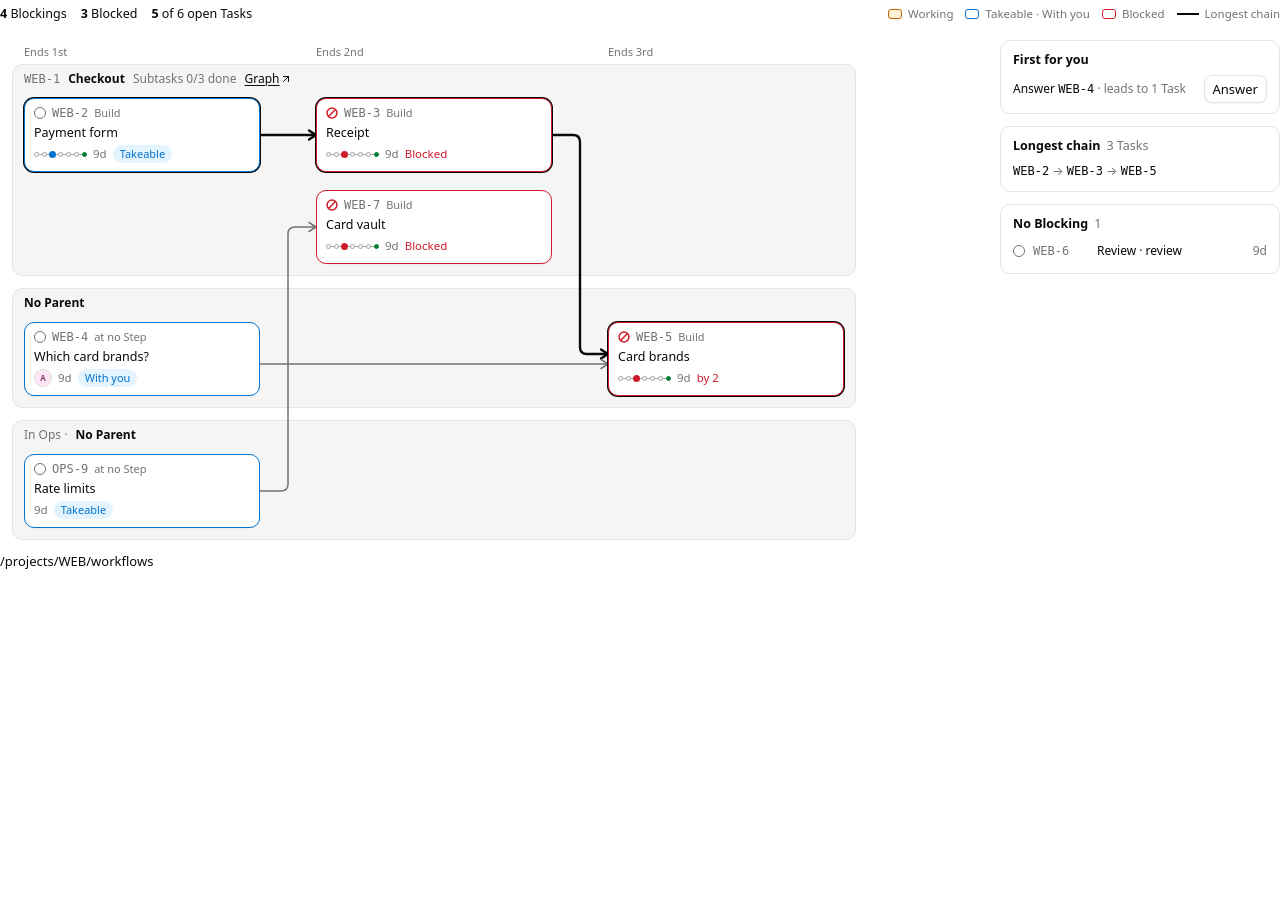
Test case: BlockingView › selects a node's chain, and hands Show on line its id and Open its peek
Click the button "WEB-5 Build Card brands 9d by 2": (726, 359) [608,322,844,396]
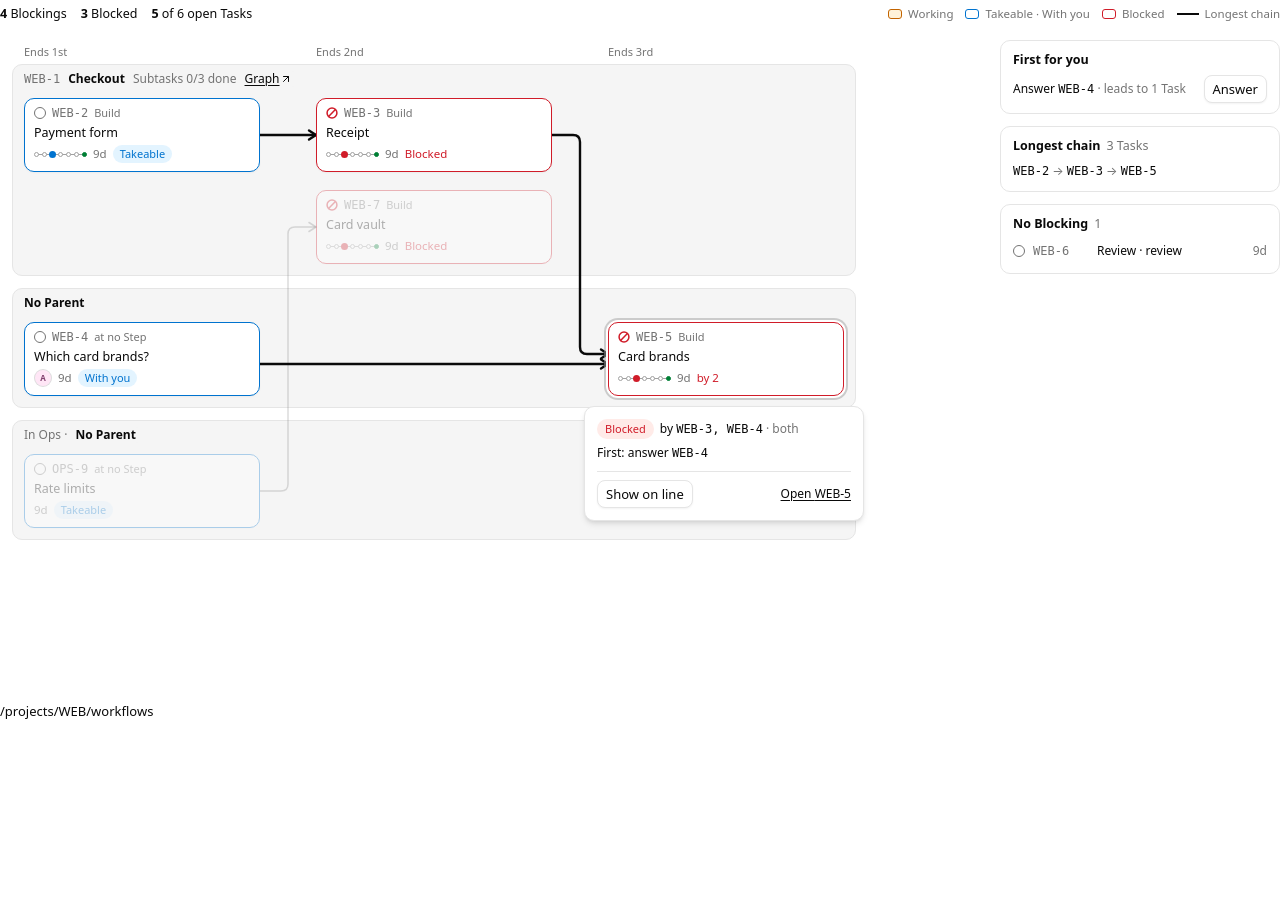
Result: the dialog named "WEB-5, its chain" shows "by WEB-3, WEB-4 · both" at [584,406,864,521]
Result: the dialog named "WEB-5, its chain" shows "First: answer WEB-4" at [584,406,864,521]
Click the button "Show on line": (645, 494) [597,480,693,508]
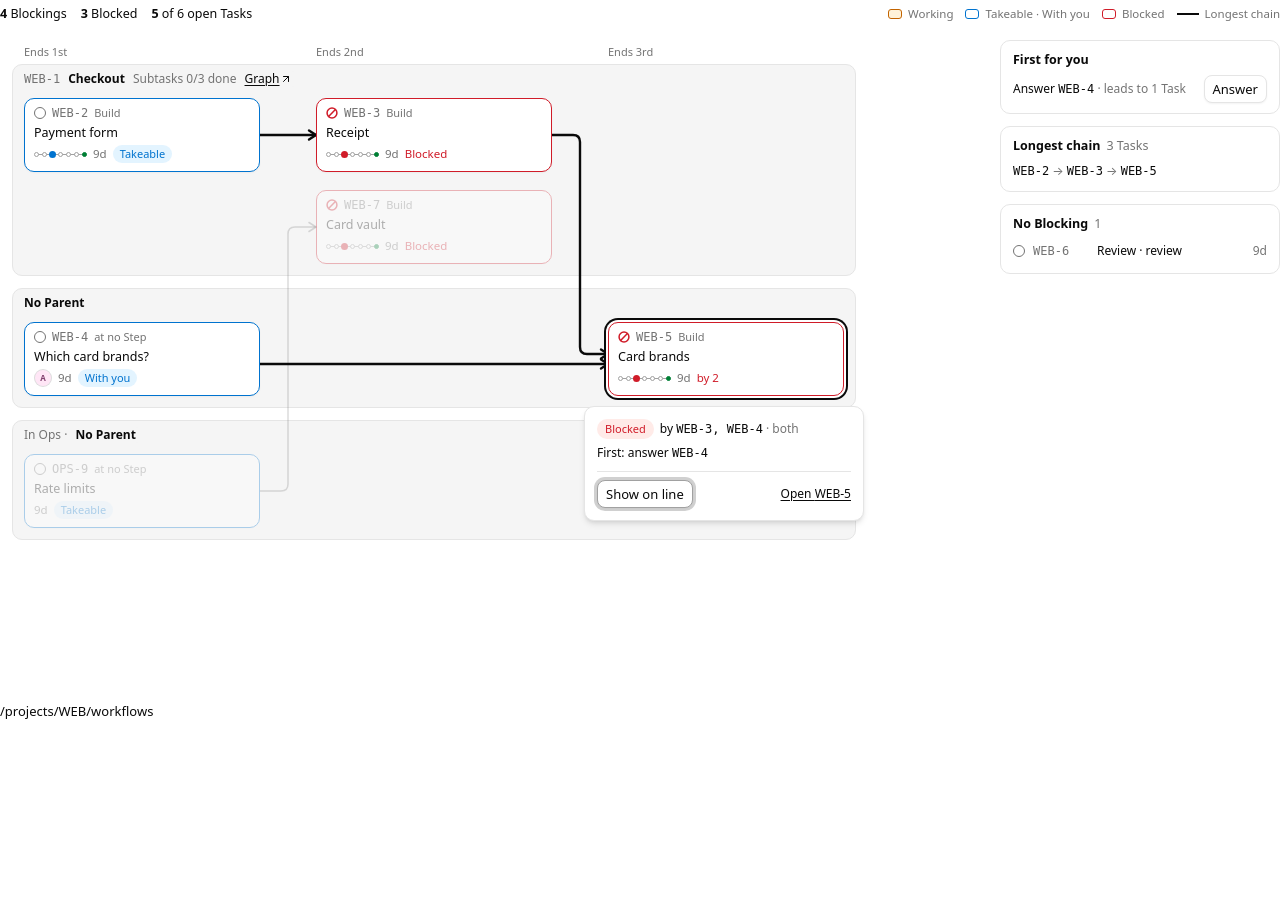
Click the button "Open WEB-5": (816, 494) [781,486,851,502]
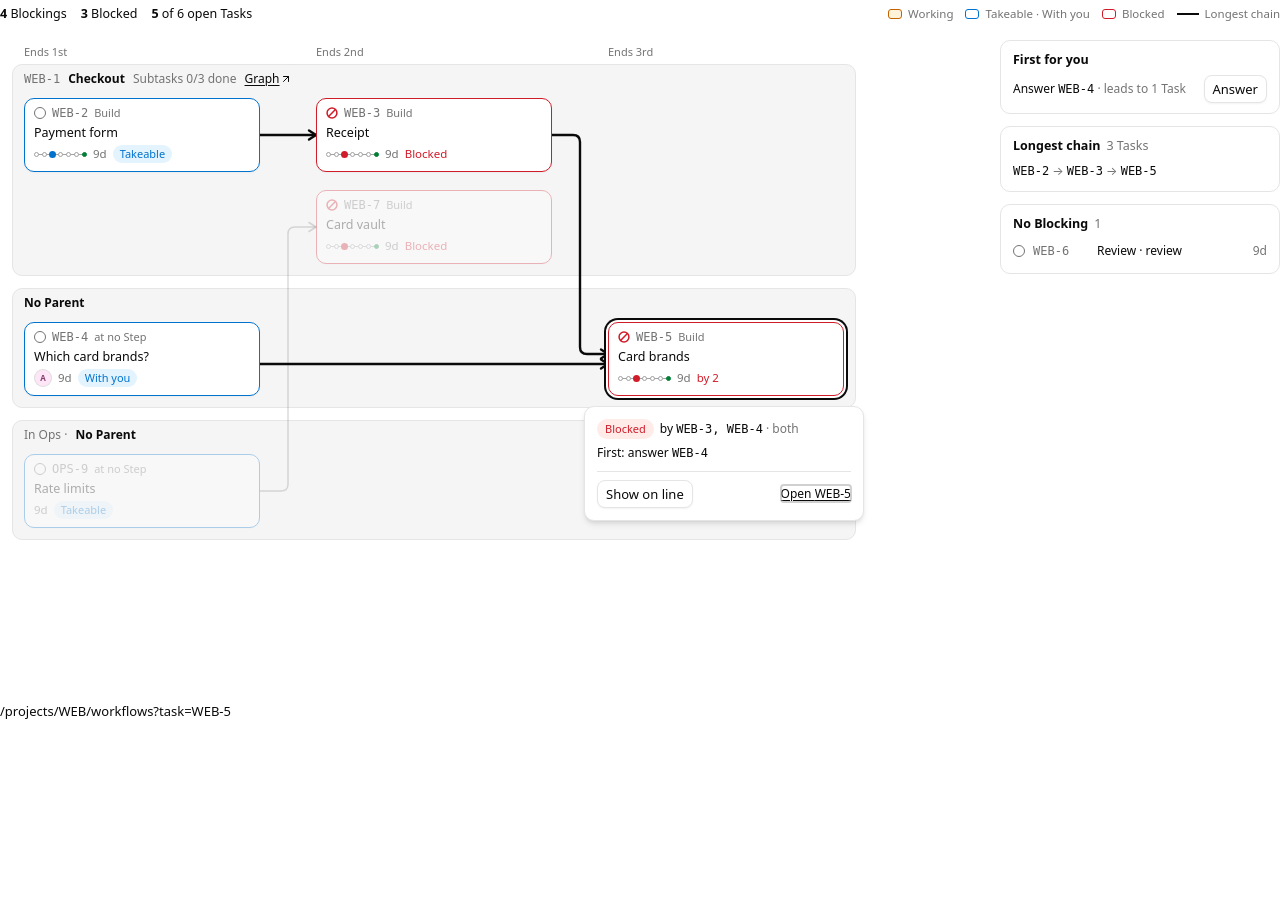
Result: the text named "Address" shows "task=WEB-5" at [0,702,231,720]
